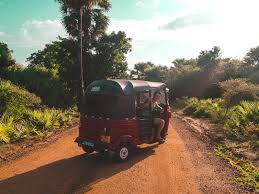tuk tuk: (77, 77, 173, 162)
